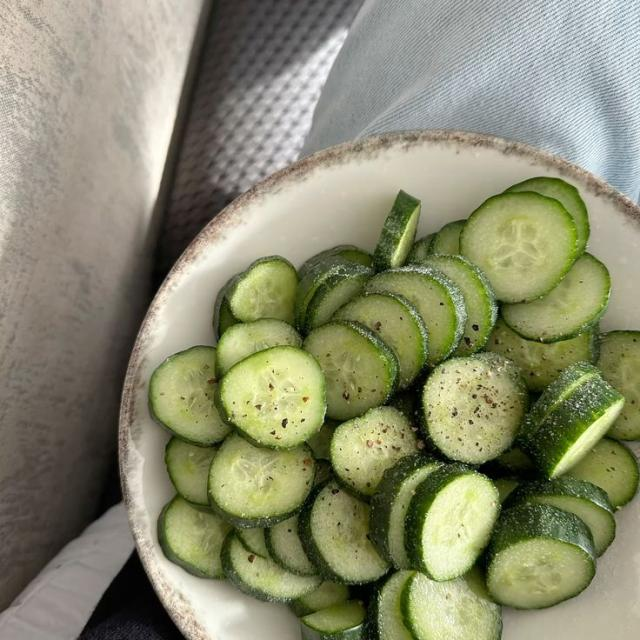cucumber sliced: (460, 193, 576, 302), (422, 354, 527, 464), (519, 368, 624, 478), (487, 503, 595, 608), (217, 347, 326, 448), (405, 465, 499, 580), (366, 266, 466, 365), (208, 434, 314, 527), (501, 254, 610, 342), (303, 321, 398, 420), (300, 482, 388, 584), (334, 293, 427, 388), (505, 476, 615, 556), (371, 454, 443, 568), (485, 318, 597, 391), (149, 347, 230, 446), (331, 407, 418, 498), (422, 255, 497, 355), (220, 532, 321, 601), (401, 573, 502, 639), (506, 177, 589, 253), (158, 496, 231, 578), (567, 438, 639, 509), (216, 319, 301, 378), (295, 255, 360, 331), (227, 256, 298, 324), (305, 264, 373, 333), (598, 331, 639, 439), (528, 362, 599, 422), (374, 190, 420, 271), (165, 437, 217, 506), (367, 571, 413, 639), (266, 516, 317, 575), (300, 600, 366, 639), (299, 245, 373, 279), (292, 581, 349, 616), (480, 447, 536, 479), (213, 279, 238, 339), (429, 220, 466, 254), (462, 561, 493, 601), (307, 419, 338, 459), (388, 388, 419, 424), (236, 528, 269, 557), (406, 234, 435, 264), (494, 477, 521, 503), (314, 459, 333, 486)
